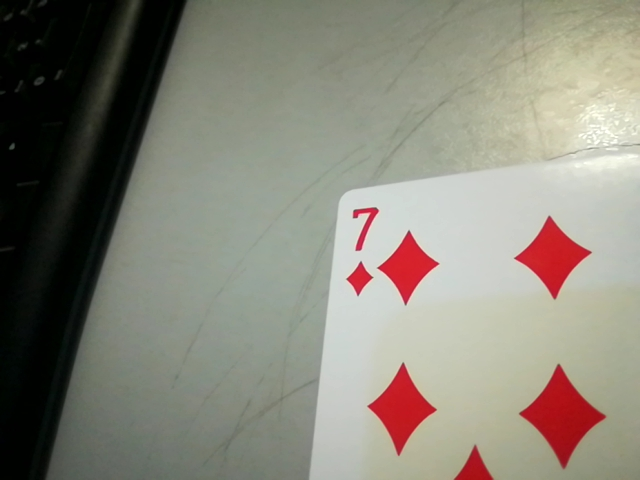fk 7: (335, 199, 387, 302)
